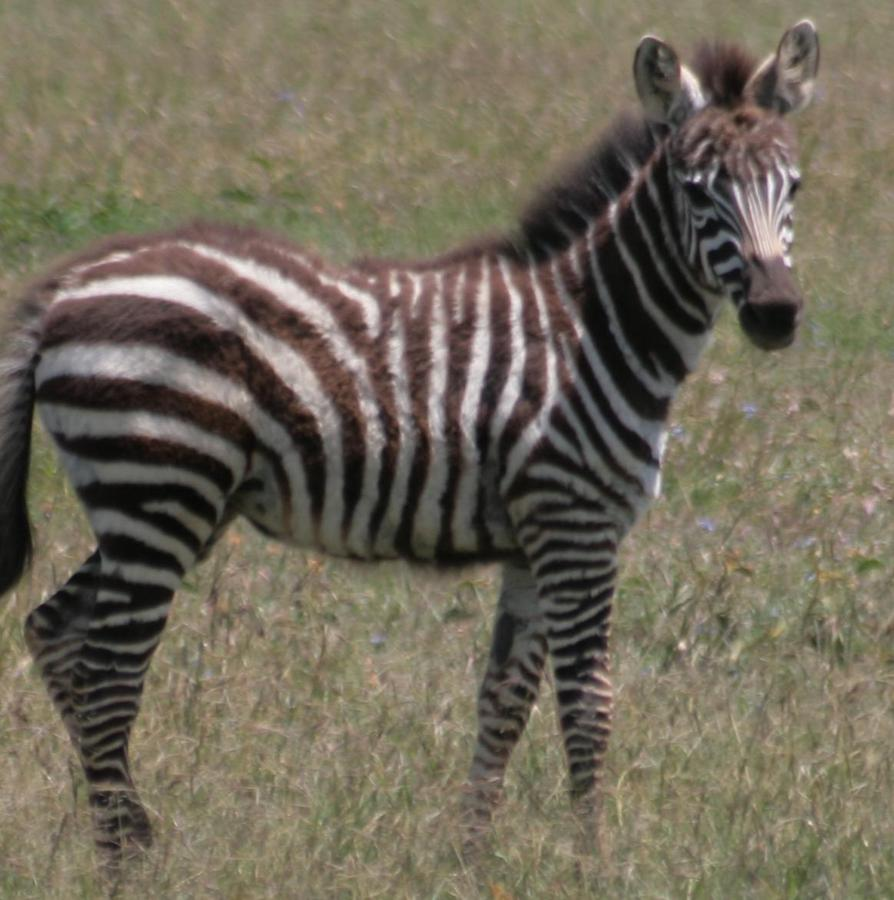zebra_plains: (26, 178, 683, 599)
